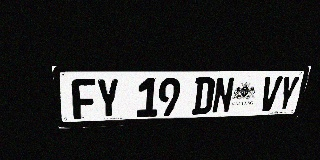1: (137, 78, 159, 117)
9: (158, 77, 181, 116)
D: (192, 77, 215, 115)
F: (71, 78, 97, 120)
N: (211, 77, 235, 114)
V: (258, 76, 283, 112)
Y: (96, 78, 120, 119), (275, 76, 300, 111)
